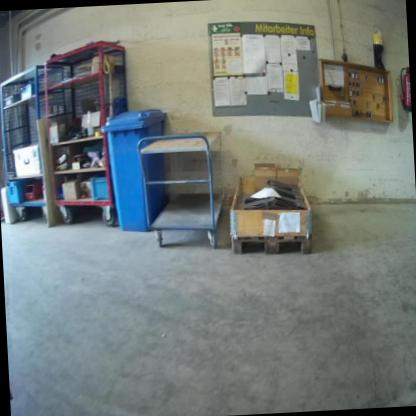pallet: (230, 232, 312, 259)
